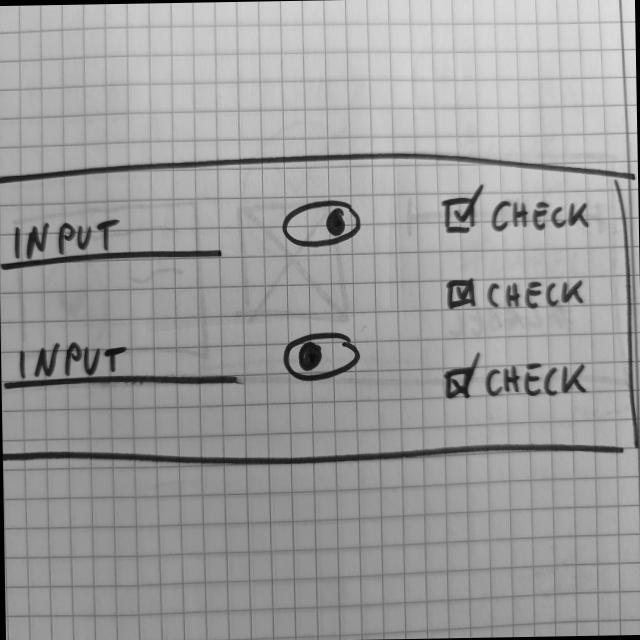checkbox: (440, 179, 591, 237), (444, 348, 595, 404), (445, 273, 593, 316)
container: (1, 144, 639, 468)
input: (1, 336, 243, 396), (1, 211, 224, 274)
toggle: (280, 328, 367, 385), (282, 199, 365, 252)
